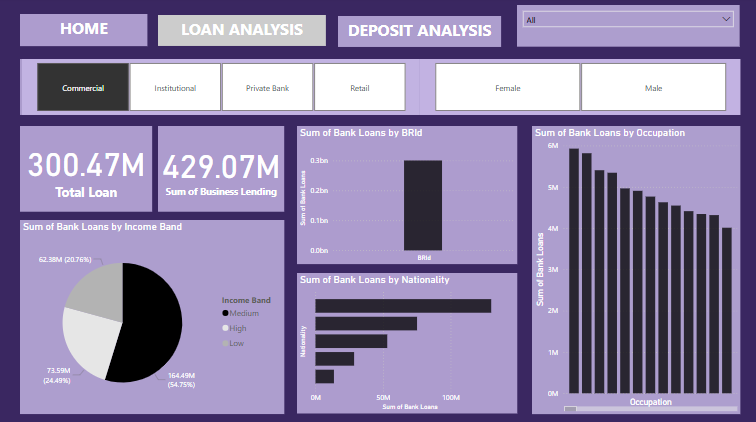

What the dashboard file says about the page in this screenshot:
{"tool":"powerbi","page":{"name":"Loan analysis","canvas":[1280,720],"ordinal":1},"visuals":[{"type":"textbox","box":[38,28,214,54],"z":0},{"type":"textbox","box":[270,30,282,52],"z":1000},{"type":"textbox","box":[572,32,274,52],"z":2000},{"type":"actionButton","box":[38,30,214,52],"z":3000},{"type":"actionButton","box":[572,32,274,50],"z":4000},{"type":"actionButton","box":[100,100,300,300],"z":5000},{"type":"textbox","box":[38,104,1210,94],"z":6000},{"type":"card","fields":{"Values":["Banking_Clients.Total Loan"]},"box":[38,216,222,144],"z":7000},{"type":"card","fields":{"Values":["Sum(Banking_Clients.Business Lending)"]},"box":[270,216,212,144],"z":8000},{"type":"pieChart","fields":{"Category":["Banking_Clients.Income Band"],"Y":["Sum(Banking_Clients.Bank Loans)"]},"box":[38,374,444,326],"z":9000},{"type":"columnChart","fields":{"Y":["Sum(Banking_Clients.Bank Loans)"],"Category":["Banking_Clients.BRId"]},"box":[504,216,370,232],"z":10000},{"type":"barChart","fields":{"Category":["Banking_Clients.Nationality"],"Y":["Sum(Banking_Clients.Bank Loans)"]},"box":[504,464,370,236],"z":11000},{"type":"columnChart","fields":{"Y":["Sum(Banking_Clients.Bank Loans)"],"Category":["Banking_Clients.Occupation"]},"box":[898,216,350,484],"z":12000},{"type":"slicer","fields":{"Values":["Banking_Clients.BRId"]},"box":[42,104,668,94],"z":13000},{"type":"slicer","fields":{"Values":["Banking_Clients.GenderId"]},"box":[710,104,538,94],"z":14000},{"type":"slicer","fields":{"Values":["Banking_Clients.IAId"]},"box":[874,14,374,70],"z":15000}]}

Visuals, with their boxes in screenshot pixels (x1, y1, x2, y2), scaled from the page's 1280x720 canvas onto the 756x422 screenshot:
textbox: 22/16/149/48
textbox: 159/18/326/48
textbox: 338/19/500/49
actionButton: 22/18/149/48
actionButton: 338/19/500/48
actionButton: 59/59/236/234
textbox: 22/61/737/116
card - Banking_Clients.Total Loan: 22/127/154/211
card - Sum(Banking_Clients.Business Lending): 159/127/285/211
pieChart - Banking_Clients.Income Band x Sum(Banking_Clients.Bank Loans): 22/219/285/410
columnChart - Sum(Banking_Clients.Bank Loans) x Banking_Clients.BRId: 298/127/516/263
barChart - Banking_Clients.Nationality x Sum(Banking_Clients.Bank Loans): 298/272/516/410
columnChart - Sum(Banking_Clients.Bank Loans) x Banking_Clients.Occupation: 530/127/737/410
slicer - Banking_Clients.BRId: 25/61/419/116
slicer - Banking_Clients.GenderId: 419/61/737/116
slicer - Banking_Clients.IAId: 516/8/737/49
